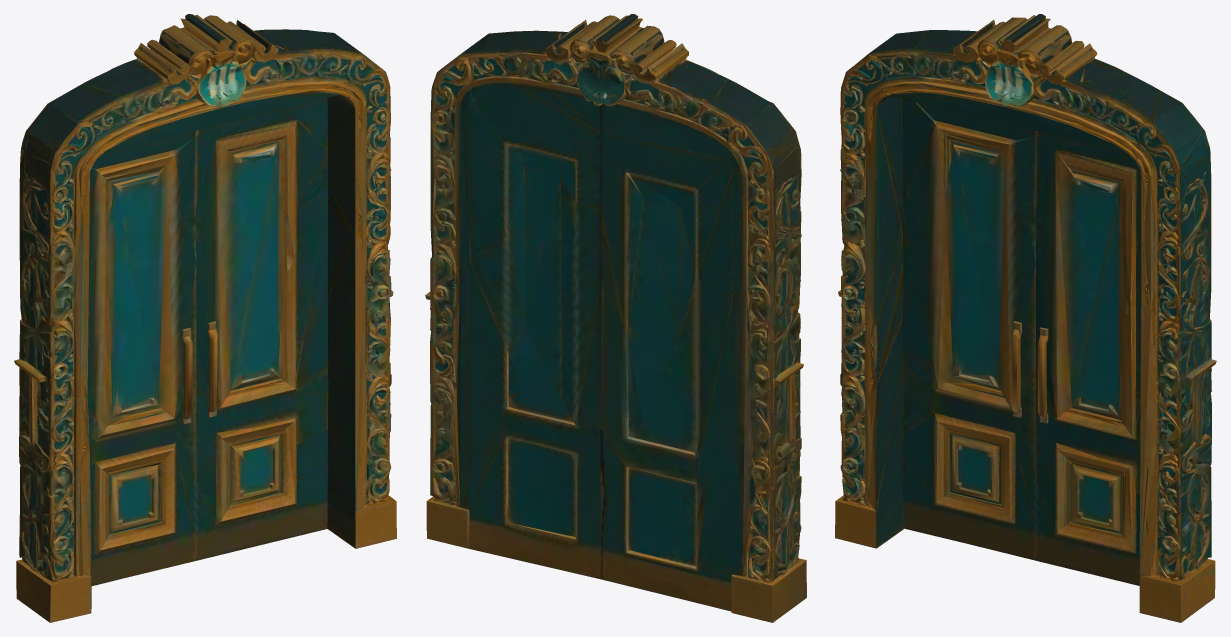
The model's file is mx_hh_elevator.glb.
3 views of the same model, side by side, from view 1: azimuth 30°, elevation 25°; view 2: azimuth 150°, elevation 25°; view 3: azimuth 330°, elevation 25° (orthographic).
Size of the model in its own units: 1.3 by 1.9 by 0.2566.
1 material, 1 textured.
